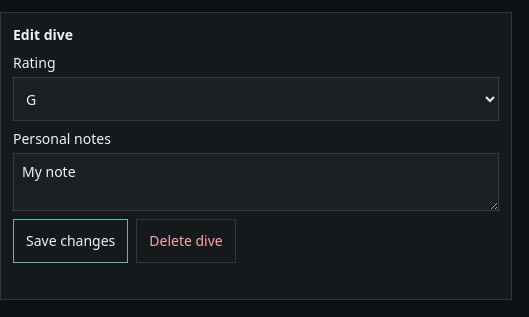
Test: saves personal notes and updates the reader only after success
Replace the text in the text box labelled "Personal notes" with "New note" at point(256, 182), box [13,153,499,211]
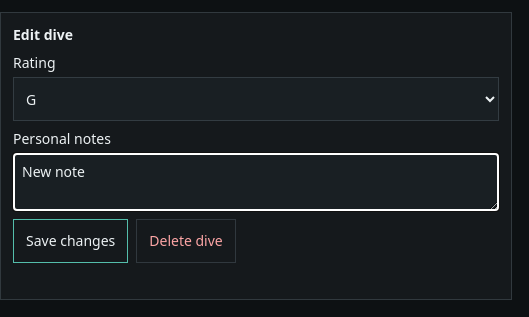
Click the button "Save changes" at point(71, 241), box [13,219,128,263]
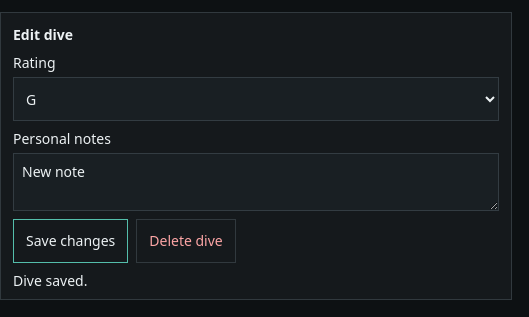
Check: the message reads "Dive saved.", box [13,271,87,290]
